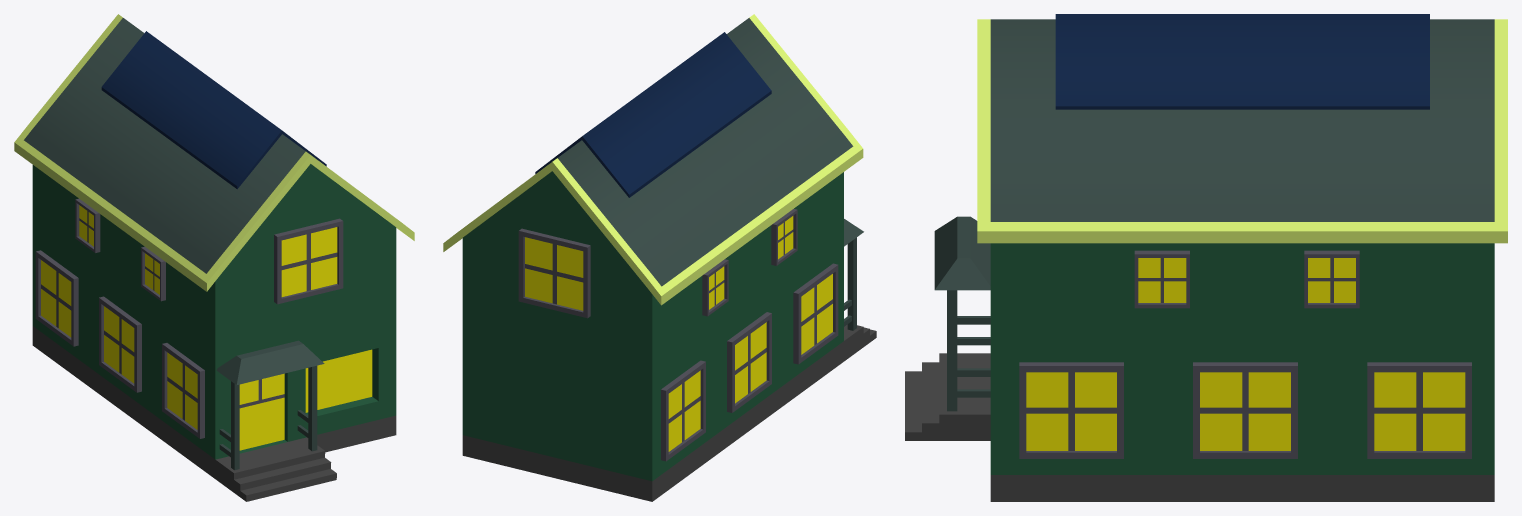
The model's file is house2a.FBX.
3 views of the same model, side by side, from view 1: azimuth 30°, elevation 25°; view 2: azimuth 150°, elevation 25°; view 3: azimuth 270°, elevation 25° (orthographic). The views are drawn at different scales.
Parts seen in each view (by area): view 1: house2a; view 2: house2a; view 3: house2a.
Boxes of the visible parts, left/top/right/bottom form: house2a: left=14, top=14, right=414, bottom=501; house2a: left=443, top=14, right=876, bottom=501; house2a: left=905, top=14, right=1507, bottom=501.
Size of the model in its own units: 13.78 by 19.63 by 25.12.
